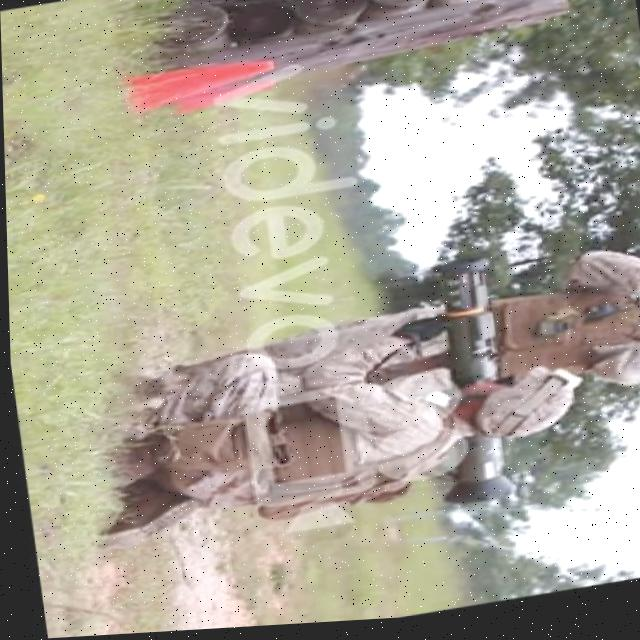rocket: (411, 262, 521, 513)
